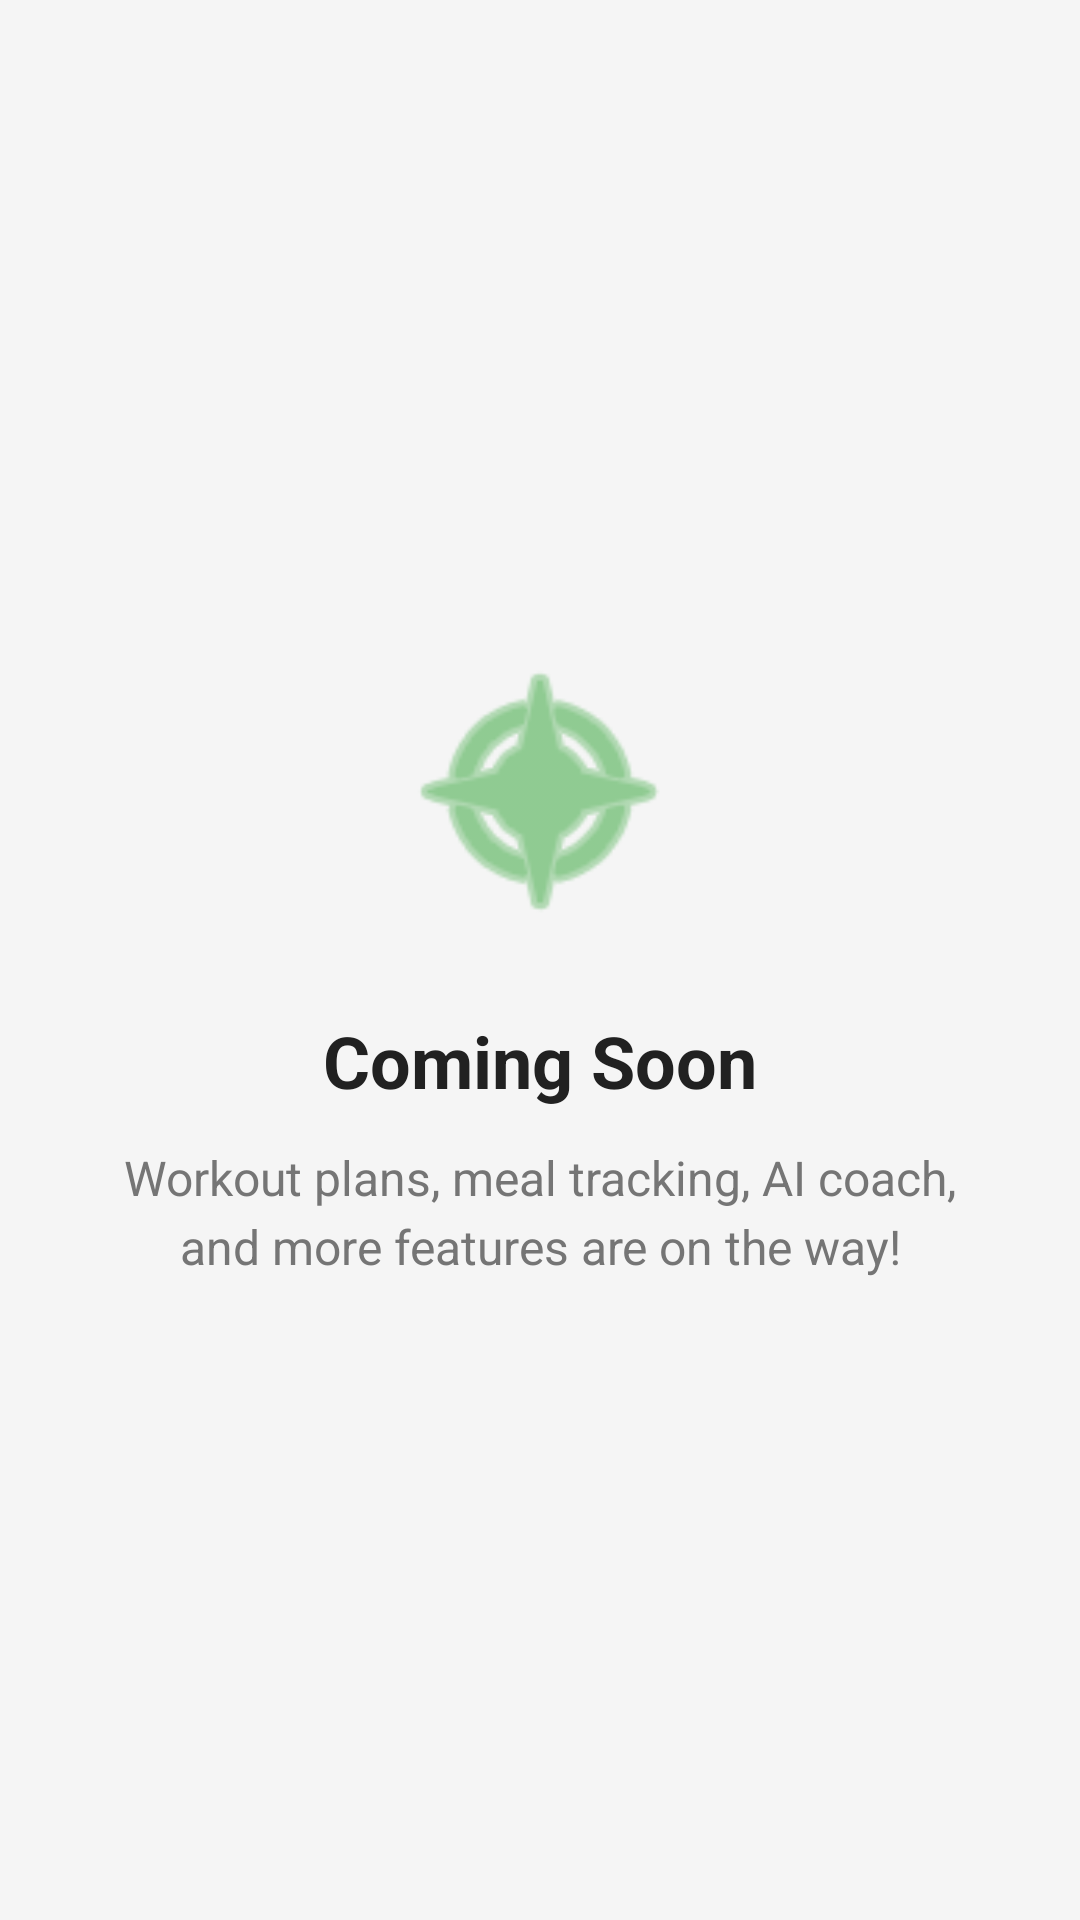

Icon bounding boxes for this 1080 × 1920 phone screenshot, format bbox=(x1, y1, x2, y2):
compass: bbox=(421, 674, 657, 910)
